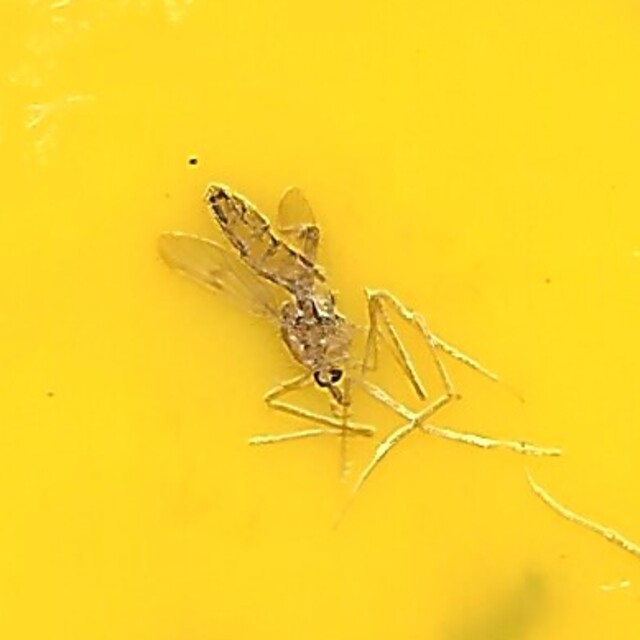Nematocera: (165, 177, 475, 463)
